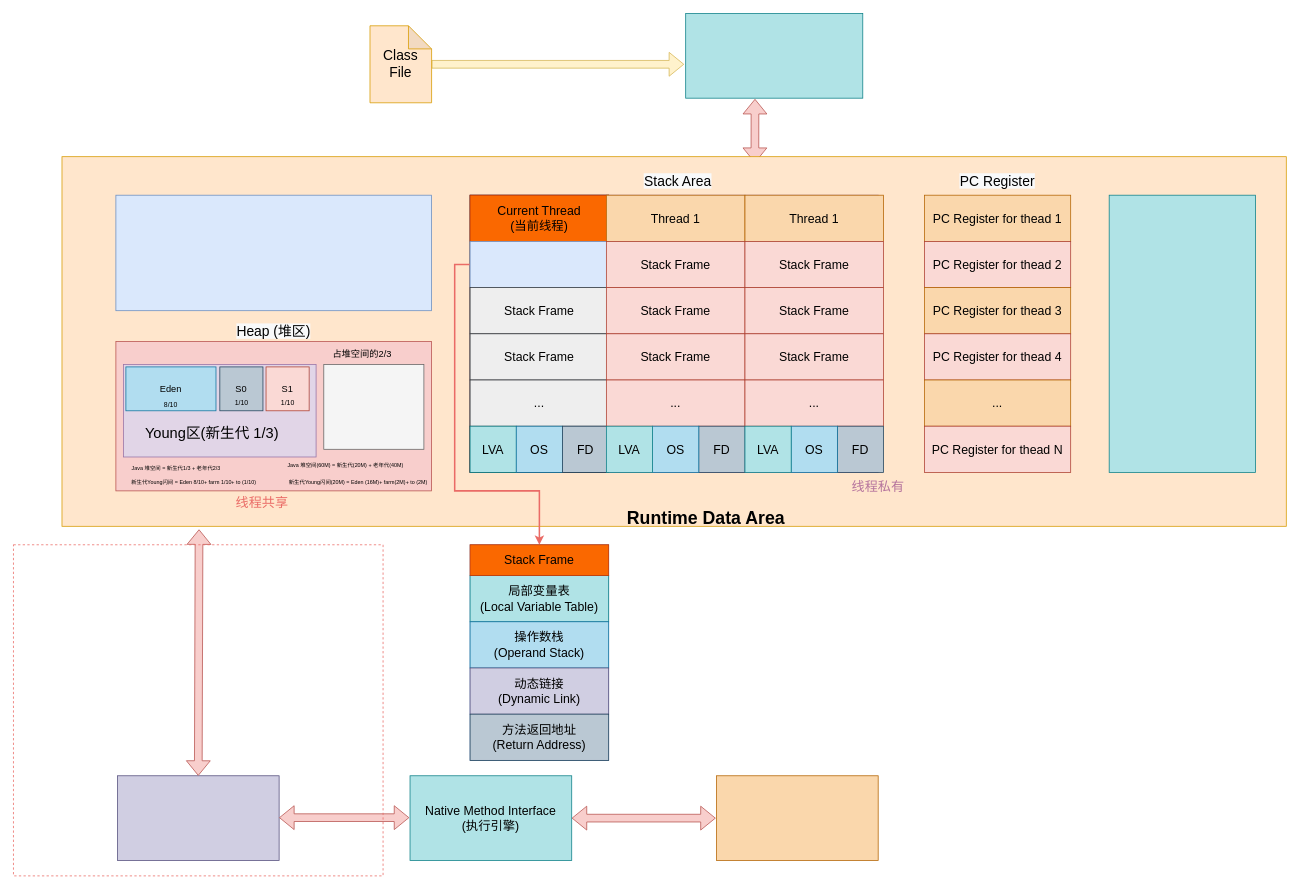
The diagram is 1300 pixels wide and 889 high, and some of its shapes have lost their labels. Here are the shapes that lost their labels. From the top down, the centre of each, then its label:
At pixel 774 55: "Class Loader Subsystem 类加载子系统".
At pixel 273 252: "Method Area Meta Space".
At pixel 539 264: "Current Stack Frame （当前栈帧）".
At pixel 1181 333: "Native Method Area".
At pixel 373 406: "Old区 老年代(2/3)".
At pixel 198 817: "Execution Engine (执行引擎)".
At pixel 797 817: "Native Method Libraries (本地方法库)".
